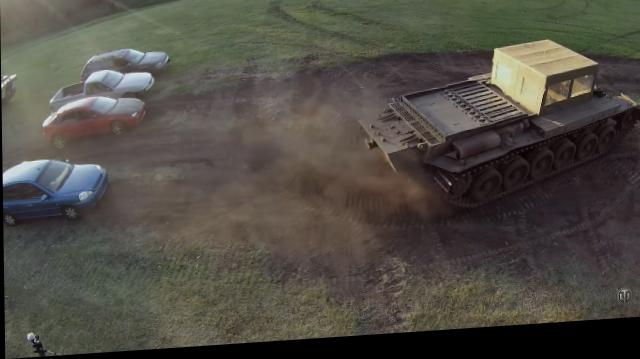tank: (388, 82, 617, 177)
